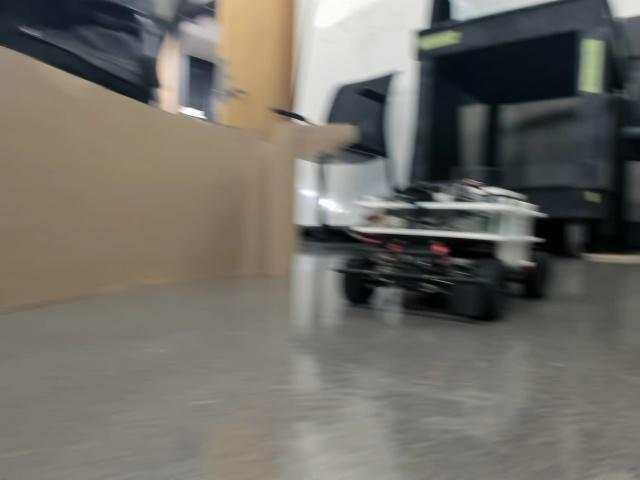Car: (344, 167, 551, 316)
